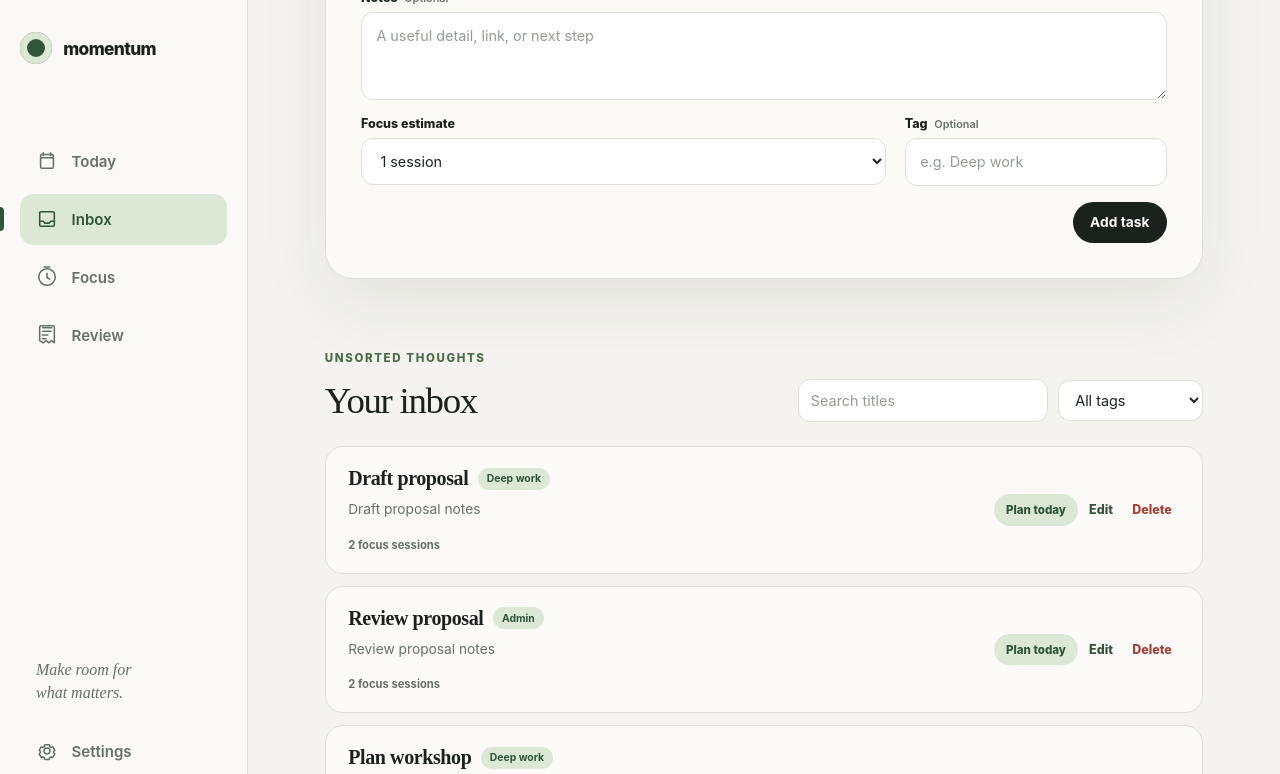
Test case: Inbox workspace › combines title search and tag filter, then clears without changing stored tasks
(page scrolled)
Expected: the heading "Draft proposal" is shown, [348,467,468,490]
Type "proposal" into the search field named "Search task titles".
click(923, 401); type("proposal")  # box [798,379,1048,422]
(page scrolled)
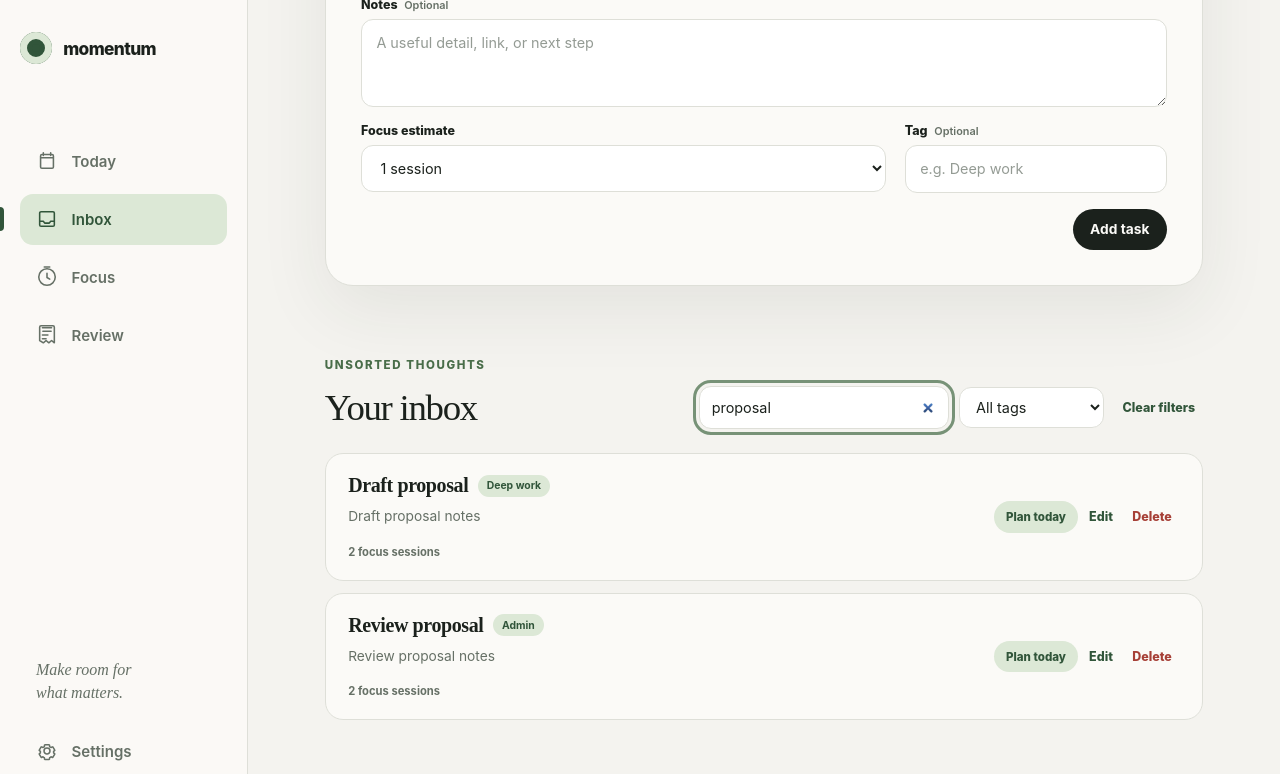
Select "Deep work" in the dropdown named "Filter by tag" at [1032, 408], box [959,387,1104,428]
(page scrolled)
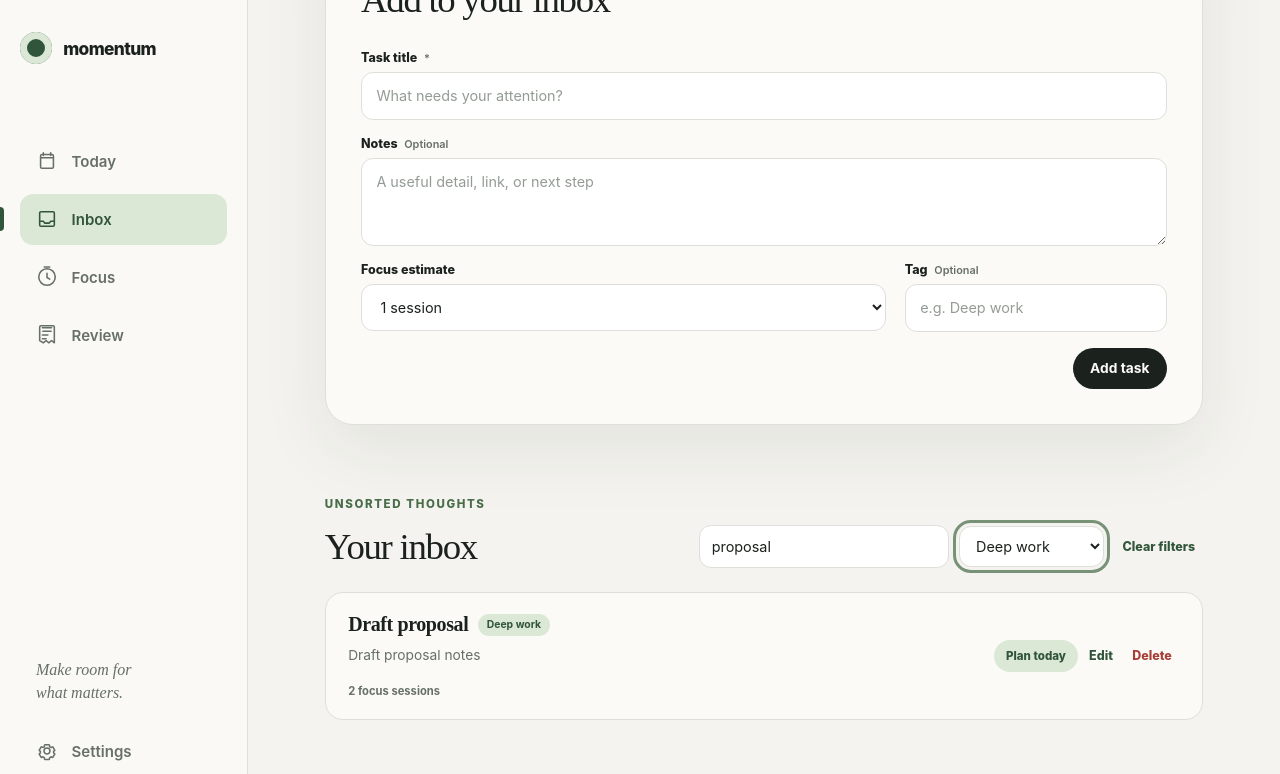
Expected: the heading "Draft proposal" is shown, [348,613,468,636]
Expected: the heading "Review proposal" is gone
Replace the text in the search field named "Search task titles" with "missing" at [824, 547], box [699,525,949,568]
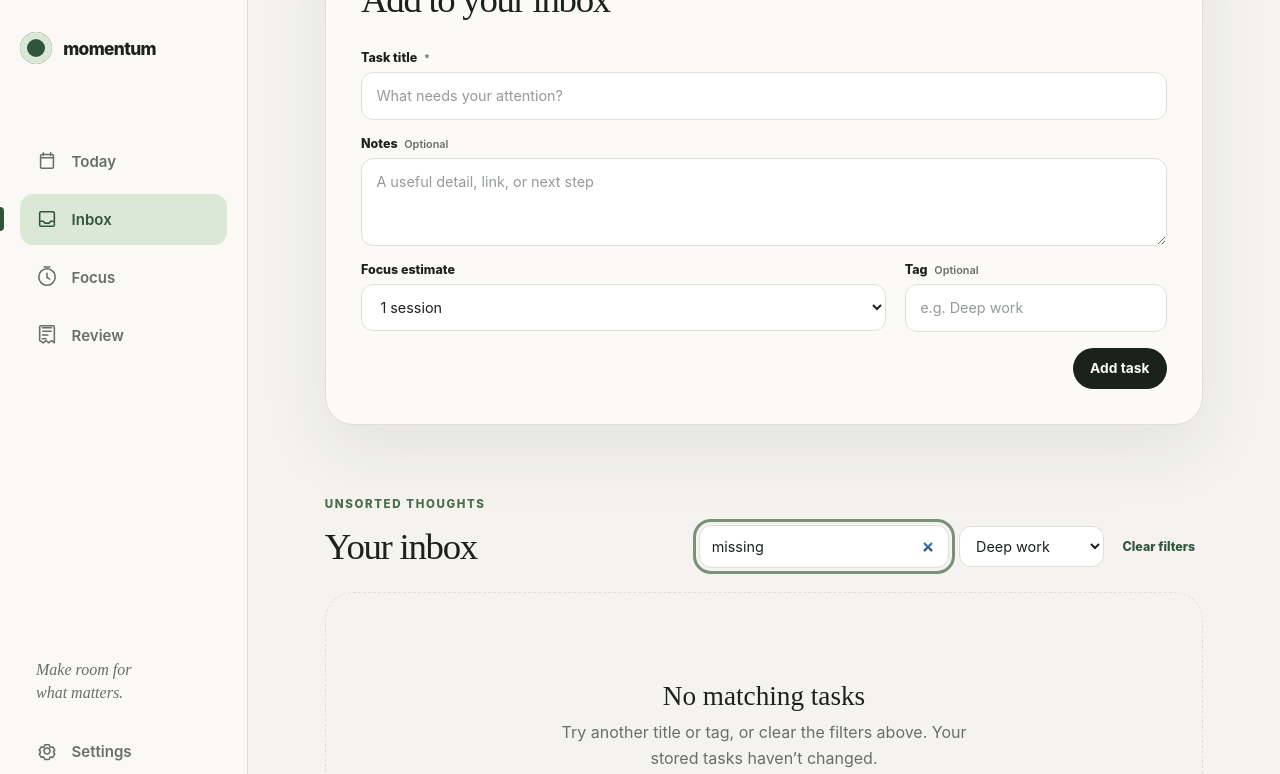
Expected: the heading "No matching tasks" is shown, [663,681,865,712]
Click the button "Clear filters".
click(1159, 547)  # box [1114,531,1203,562]
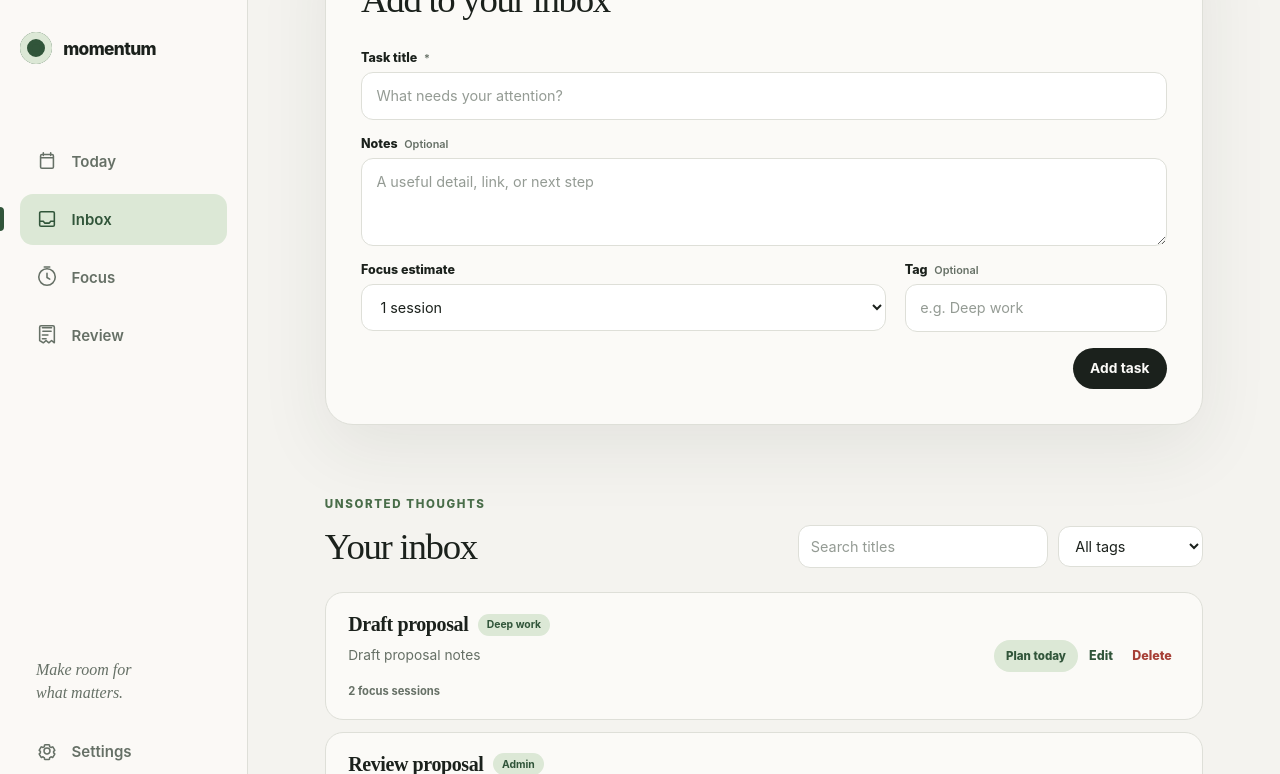
Expected: the number of list items is 3
